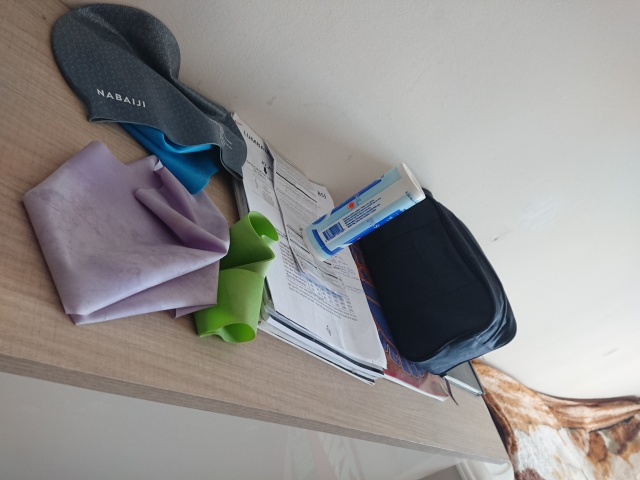Solana Pag Fine Sea Salt 250g: (299, 160, 428, 262)
